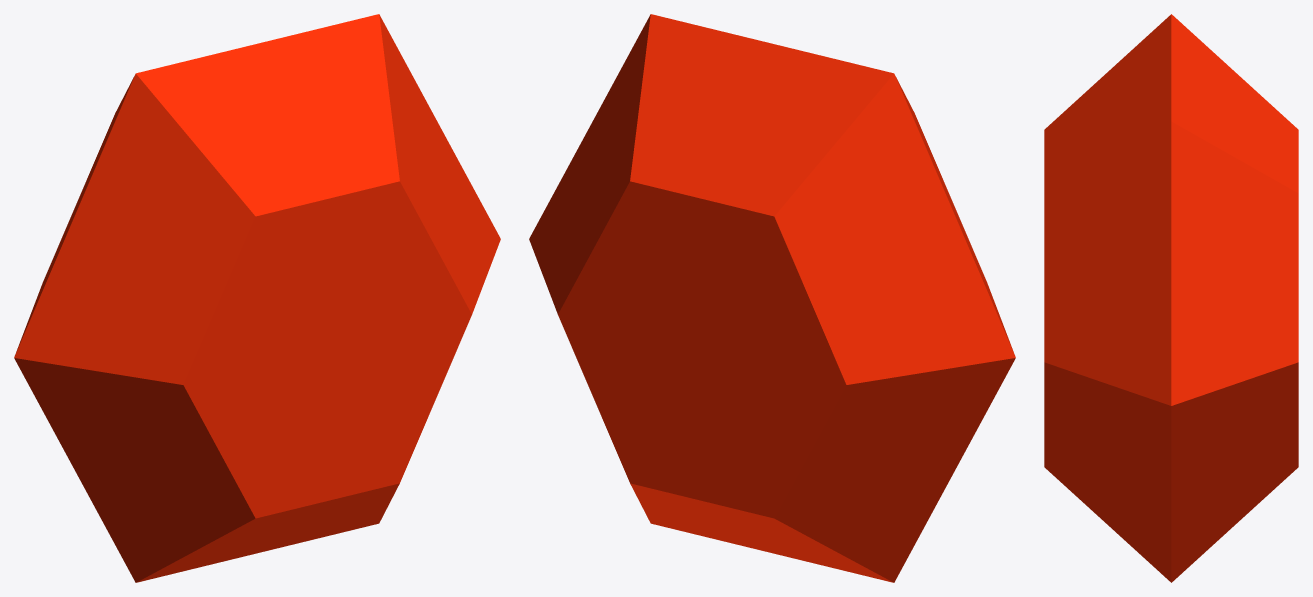
File: Crystal_orange.fbx
3 views of the same model, side by side, from view 1: azimuth 30°, elevation 25°; view 2: azimuth 150°, elevation 25°; view 3: azimuth 270°, elevation 25° (orthographic). The views are drawn at different scales.
Parts seen in each view (by area): view 1: polySurface1; view 2: polySurface1; view 3: polySurface1.
Boxes of the visible parts, left/top/right/bottom form: polySurface1: left=14, top=14, right=500, bottom=582; polySurface1: left=529, top=14, right=1015, bottom=582; polySurface1: left=1044, top=14, right=1298, bottom=582.
Size of the model in its own units: 0.225 by 0.225 by 0.1125.
Materials: 1 (1 with a texture image).
